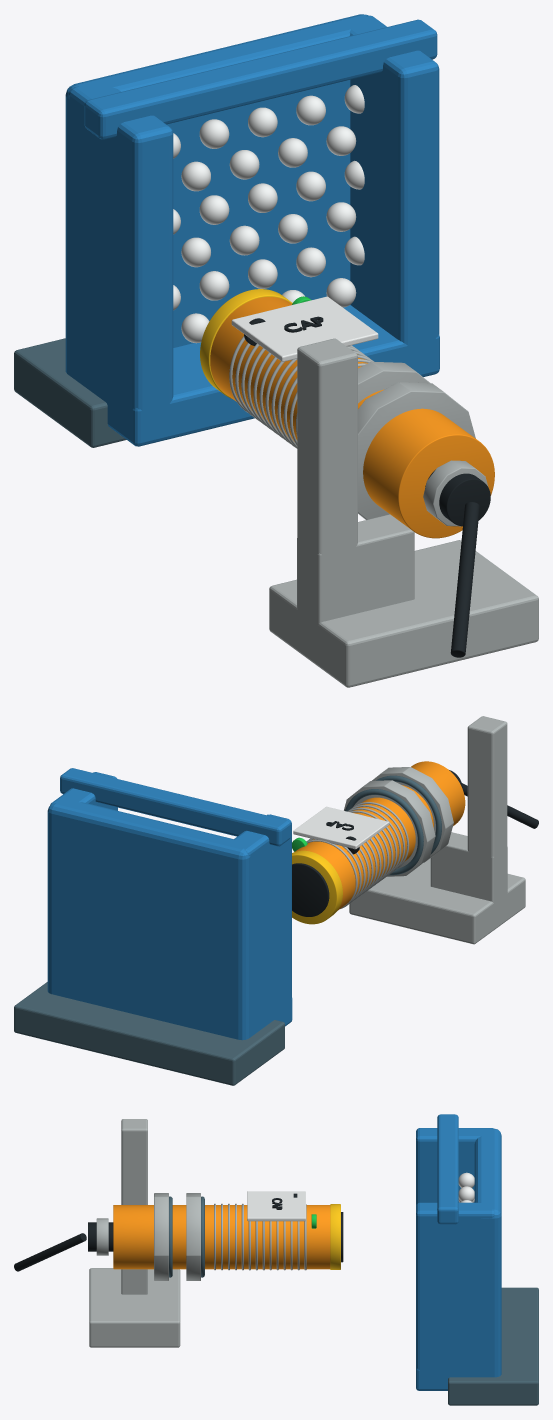
Rendered from capacitive_proximity_sensor_m30.glb.
3 views of the same model, one above another, from view 1: azimuth 30°, elevation 25°; view 2: azimuth 150°, elevation 25°; view 3: azimuth 270°, elevation 25° (orthographic). The views are drawn at different scales.
Parts seen in each view (by area): view 1: HOPPER_back, HOPPER_side_-0.07, HOPPER_side_0.5900000000000001, MOUNT_base, MOUNT_upright, SENSOR_M30_barrel, HOPPER_rim, MOUNT_gusset, HOPPER_bottom, TARGET_STAND, CAP_nameplate, LOCKNUT_0.0 (+5 smaller); view 2: HOPPER_back, TARGET_STAND, MOUNT_base, HOPPER_side_-0.07, MOUNT_upright, HOPPER_rim, SENSOR_M30_barrel, MOUNT_gusset, CAP_nameplate, LOCKNUT_0.12, CAPACITIVE_sensing_face, LOCKNUT_0.0 (+5 smaller); view 3: HOPPER_side_0.5900000000000001, SENSOR_M30_barrel, MOUNT_base, TARGET_STAND, HOPPER_back, HOPPER_side_-0.07, HOPPER_rim, MOUNT_upright, CAP_nameplate, LOCKNUT_0.0, LOCKNUT_0.12, HOPPER_bottom (+5 smaller).
Part boxes in pixels (left/top/right/bottom): HOPPER_back: left=65, top=14, right=374, bottom=381; HOPPER_side_-0.07: left=68, top=81, right=173, bottom=430; HOPPER_side_0.5900000000000001: left=344, top=15, right=439, bottom=366; MOUNT_base: left=269, top=540, right=538, bottom=687; MOUNT_upright: left=297, top=338, right=357, bottom=623; SENSOR_M30_barrel: left=210, top=297, right=494, bottom=538; HOPPER_rim: left=84, top=19, right=437, bottom=139; MOUNT_gusset: left=297, top=514, right=414, bottom=624; HOPPER_bottom: left=78, top=305, right=439, bottom=446; TARGET_STAND: left=14, top=338, right=126, bottom=447; CAP_nameplate: left=231, top=296, right=378, bottom=361; LOCKNUT_0.0: left=358, top=382, right=475, bottom=519; HOPPER_back: left=47, top=798, right=256, bottom=1040; TARGET_STAND: left=14, top=982, right=284, bottom=1085; MOUNT_base: left=349, top=858, right=525, bottom=944; HOPPER_side_-0.07: left=230, top=814, right=291, bottom=1036; MOUNT_upright: left=467, top=716, right=507, bottom=900; HOPPER_rim: left=60, top=768, right=290, bottom=846; SENSOR_M30_barrel: left=295, top=761, right=465, bottom=910; MOUNT_gusset: left=430, top=832, right=507, bottom=902; CAP_nameplate: left=293, top=806, right=389, bottom=849; LOCKNUT_0.12: left=344, top=780, right=435, bottom=876; CAPACITIVE_sensing_face: left=292, top=863, right=329, bottom=916; LOCKNUT_0.0: left=372, top=767, right=453, bottom=862; HOPPER_side_0.5900000000000001: left=416, top=1202, right=494, bottom=1370; SENSOR_M30_barrel: left=113, top=1205, right=330, bottom=1269; MOUNT_base: left=89, top=1268, right=180, bottom=1347; TARGET_STAND: left=448, top=1287, right=538, bottom=1405; HOPPER_back: left=474, top=1128, right=501, bottom=1377; HOPPER_side_-0.07: left=416, top=1128, right=493, bottom=1205; HOPPER_rim: left=437, top=1114, right=458, bottom=1224; MOUNT_upright: left=121, top=1119, right=147, bottom=1204; CAP_nameplate: left=247, top=1191, right=305, bottom=1221; LOCKNUT_0.0: left=154, top=1193, right=168, bottom=1280; LOCKNUT_0.12: left=186, top=1193, right=200, bottom=1280; HOPPER_bottom: left=416, top=1368, right=492, bottom=1390.
Bounding box in the file's own units: 0.98 × 0.815 × 1.96.
